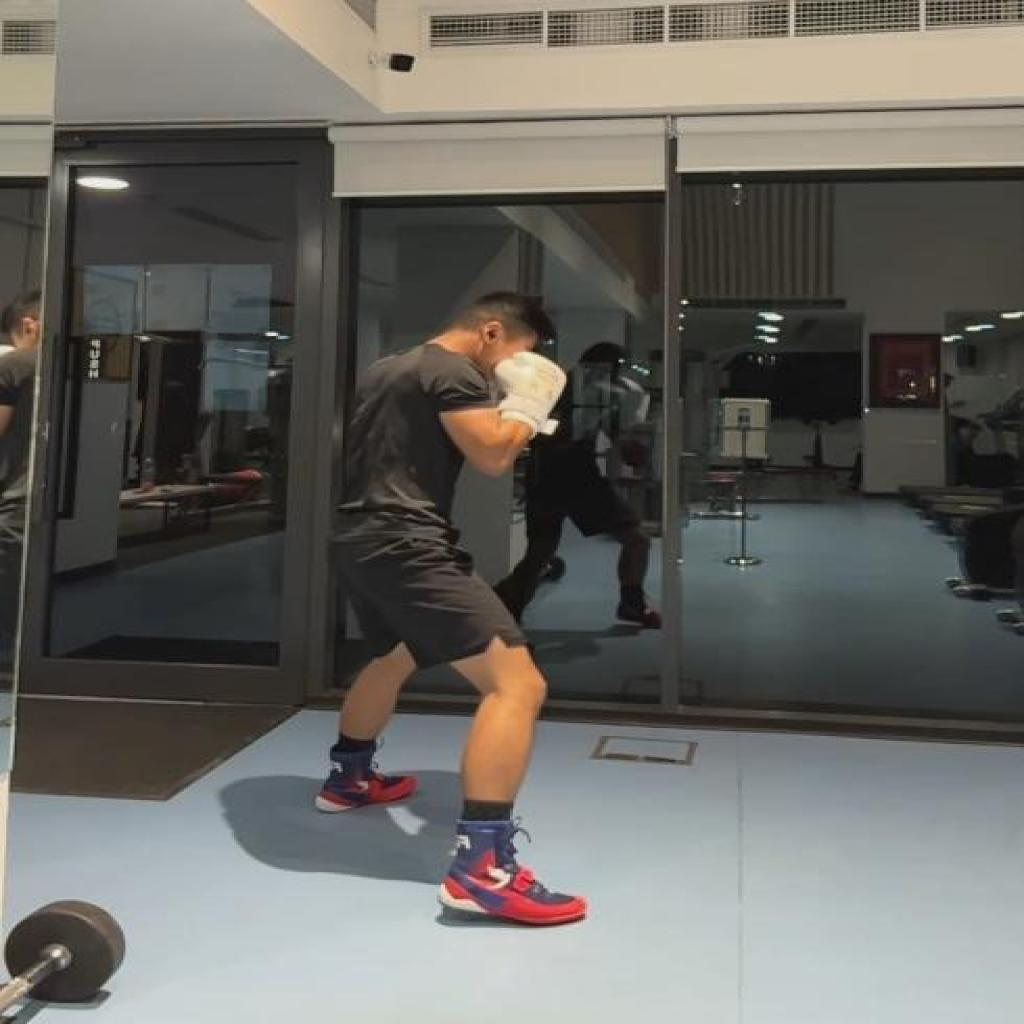no punch: (310, 283, 590, 931)
